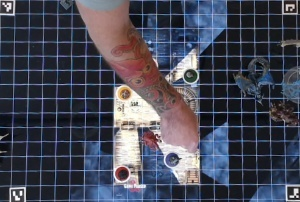green: (181, 69, 199, 83)
red: (113, 164, 130, 183)
violet: (163, 151, 181, 168)
yellow: (115, 83, 133, 101)
